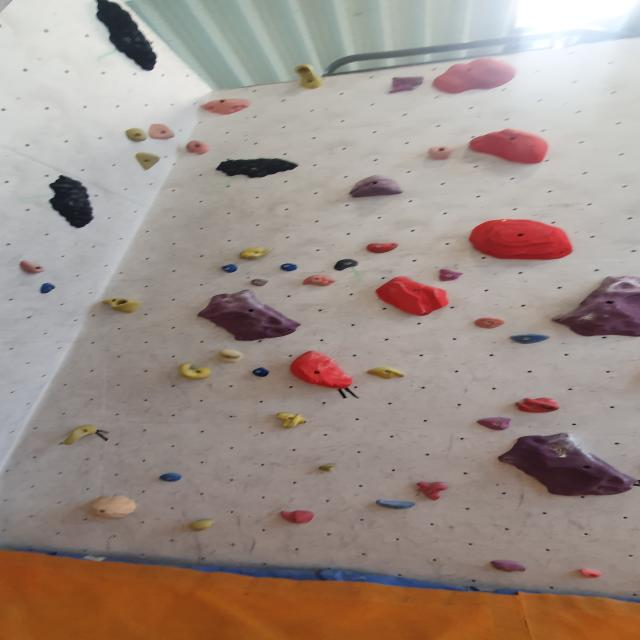Crimp: (496, 432, 636, 503), (191, 292, 303, 346), (552, 278, 640, 344), (464, 215, 577, 261), (388, 74, 428, 97), (364, 364, 414, 380), (374, 496, 421, 513), (505, 334, 557, 347), (488, 558, 530, 574), (471, 316, 509, 330), (364, 241, 402, 255), (438, 268, 468, 284), (246, 365, 276, 378), (579, 567, 605, 579), (158, 471, 185, 482), (38, 282, 57, 296), (276, 264, 302, 274), (219, 265, 242, 276), (315, 462, 339, 472), (248, 278, 271, 288)
Jug: (89, 0, 167, 72), (43, 171, 99, 229), (216, 152, 304, 179), (288, 63, 333, 91), (61, 423, 102, 446), (176, 359, 216, 380), (416, 480, 451, 502), (274, 412, 310, 431), (132, 151, 162, 173), (146, 122, 177, 143), (216, 348, 247, 366), (123, 128, 151, 144), (184, 139, 212, 155)
Pinch: (372, 274, 456, 317), (15, 260, 45, 278), (424, 145, 455, 162), (238, 246, 275, 260)
Pocket: (100, 298, 145, 316)
Sloper: (432, 54, 524, 98), (464, 127, 556, 167), (285, 349, 357, 391), (347, 173, 407, 200), (85, 494, 138, 523), (196, 98, 262, 114), (514, 398, 563, 416), (278, 509, 319, 527), (301, 275, 339, 290), (187, 518, 215, 533)
